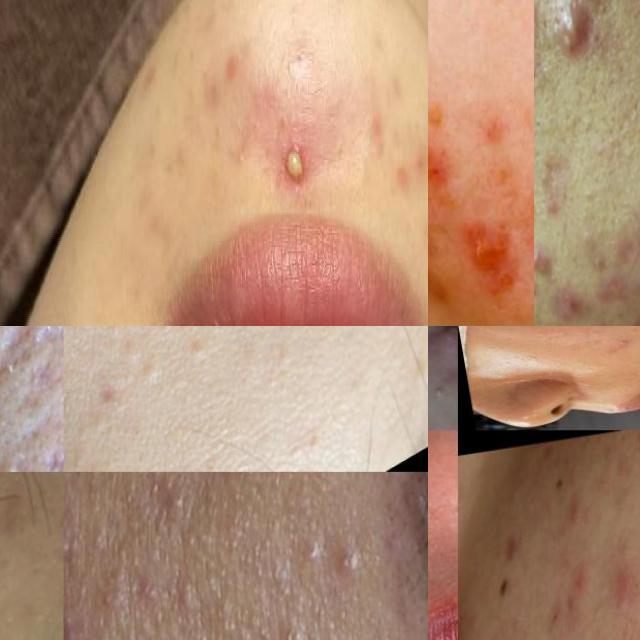acne_scars: (428, 126, 460, 202), (0, 326, 45, 379), (32, 410, 64, 472)
comedone: (135, 472, 208, 553), (172, 554, 215, 621), (275, 600, 316, 640), (184, 330, 217, 367), (428, 368, 454, 410), (244, 608, 278, 640), (0, 437, 28, 472), (136, 357, 166, 389), (232, 130, 249, 182), (116, 337, 144, 365), (253, 0, 278, 28), (0, 614, 24, 640), (581, 179, 604, 204), (534, 202, 548, 222)
papule: (461, 206, 513, 290), (612, 554, 640, 615), (553, 286, 586, 326), (572, 566, 595, 606), (629, 215, 640, 255)
pustule: (284, 510, 339, 584), (275, 124, 318, 206), (322, 526, 376, 591), (64, 504, 88, 580), (63, 607, 100, 640), (609, 331, 638, 349)
sebo-crystan-conglo: (548, 4, 590, 62), (534, 244, 554, 283), (432, 326, 458, 345)
